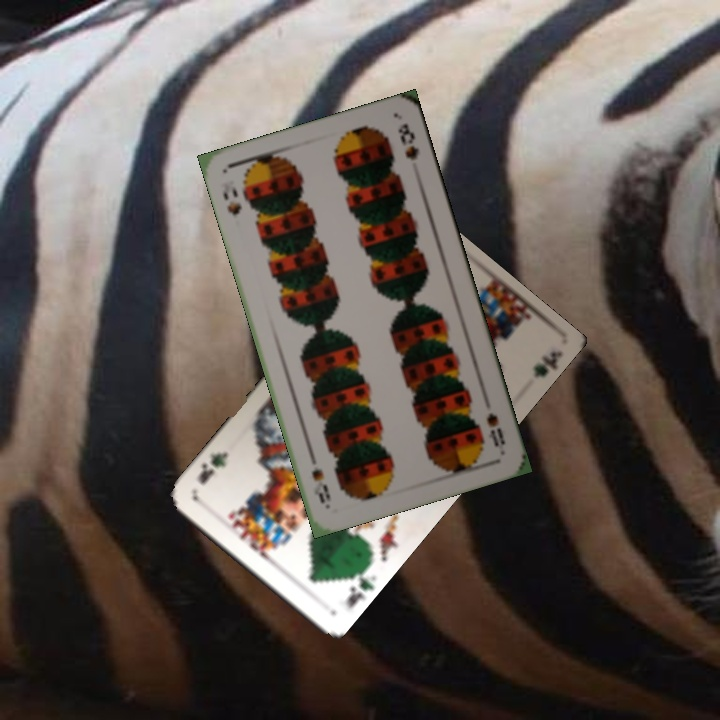GK: (342, 564, 379, 612)
S8: (482, 408, 508, 449), (218, 183, 244, 218)
